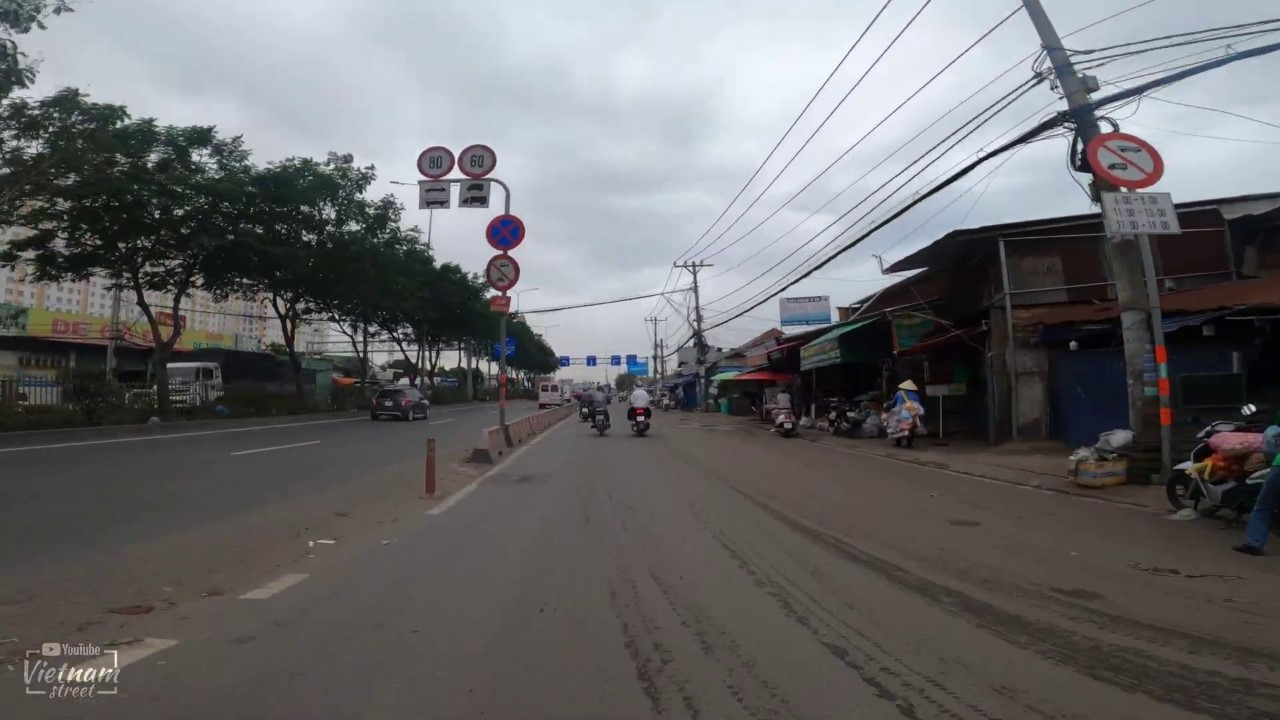gioi_han_60km: (456, 143, 498, 179)
gioi_han_80km: (415, 144, 455, 180)
